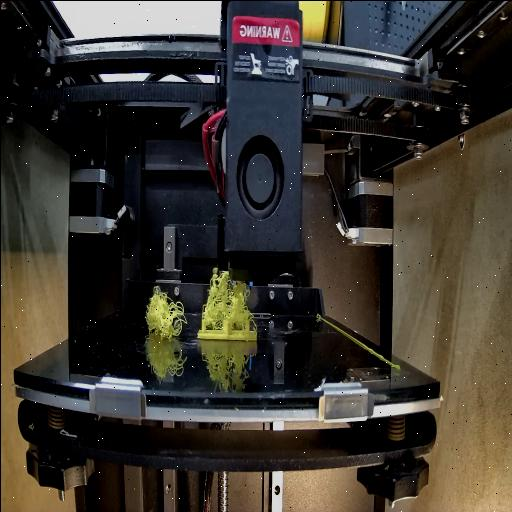spaghetti: (196, 263, 254, 327), (144, 288, 186, 336)
